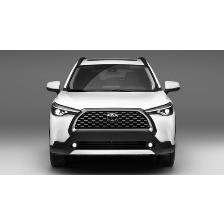NON-EV: (44, 57, 183, 170)
